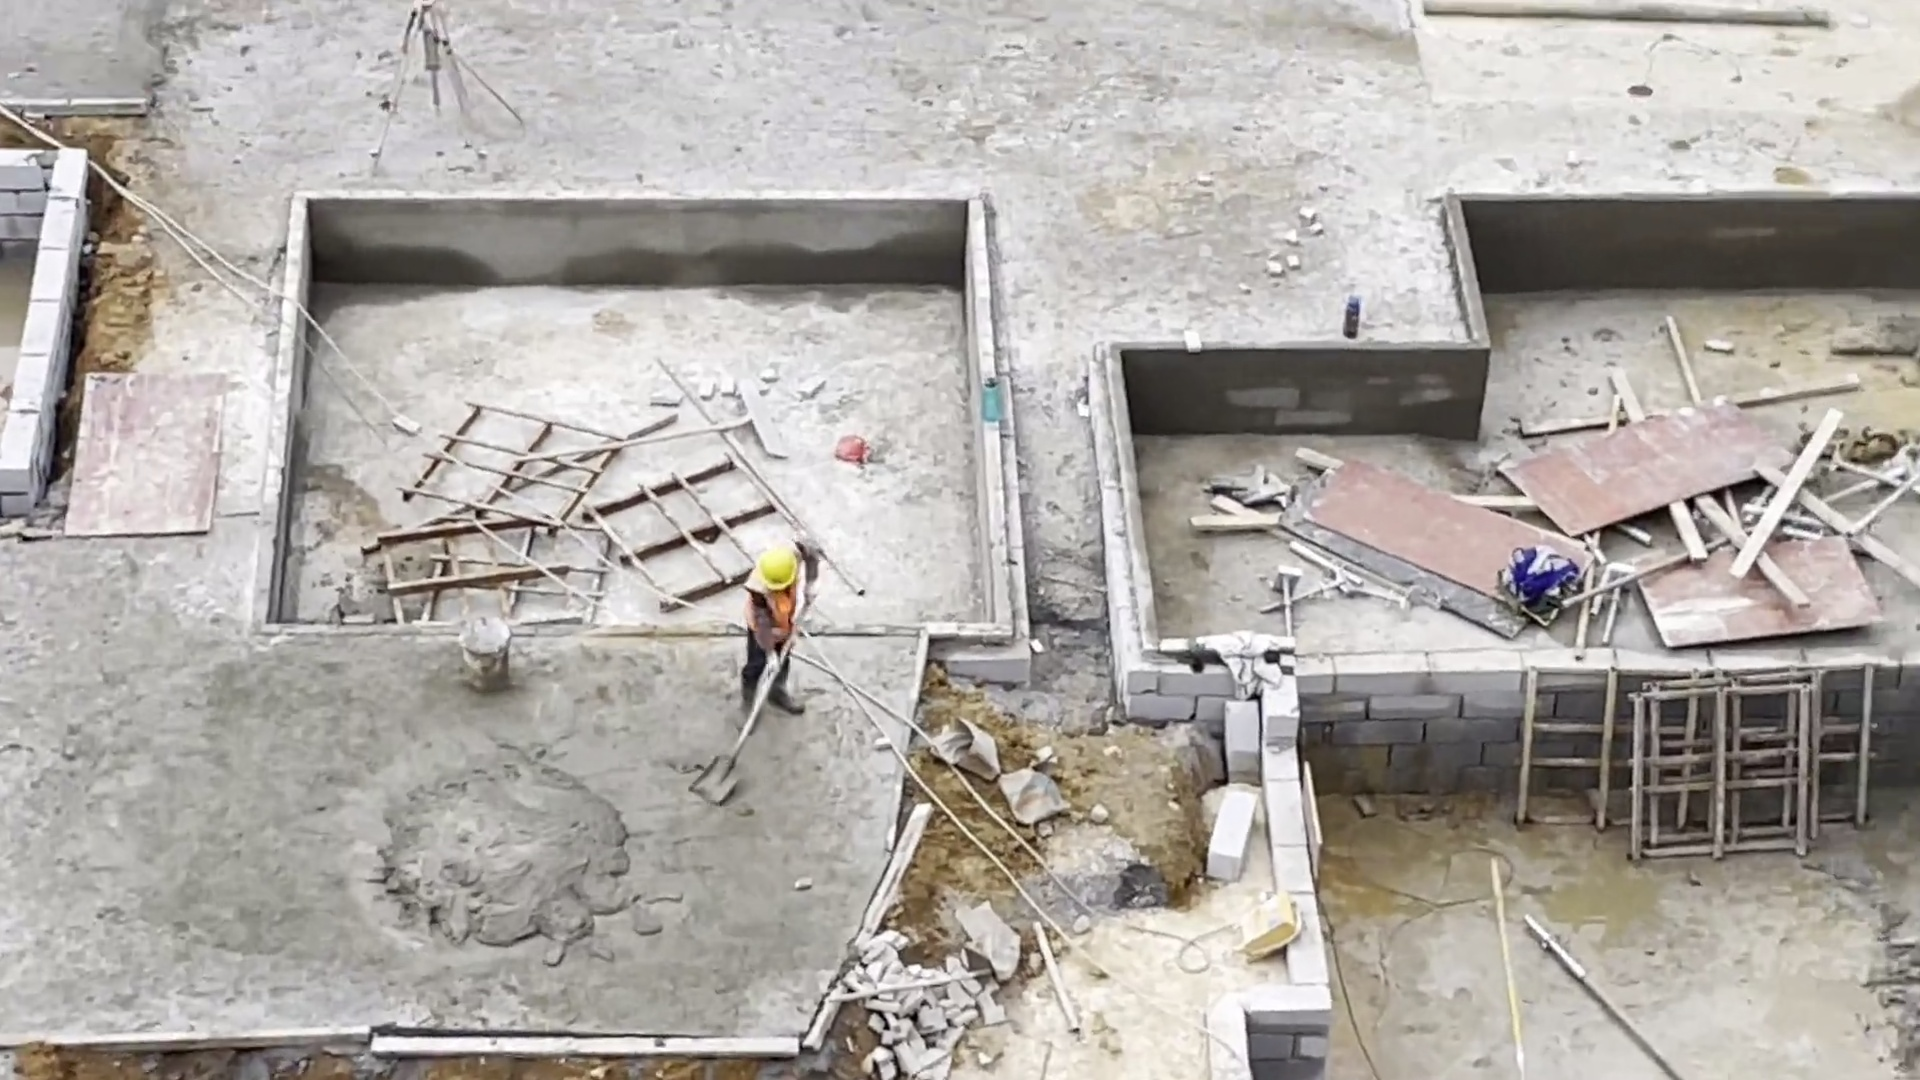helmet: (753, 547, 798, 593)
person: (733, 534, 818, 734)
vest: (746, 580, 807, 643)
